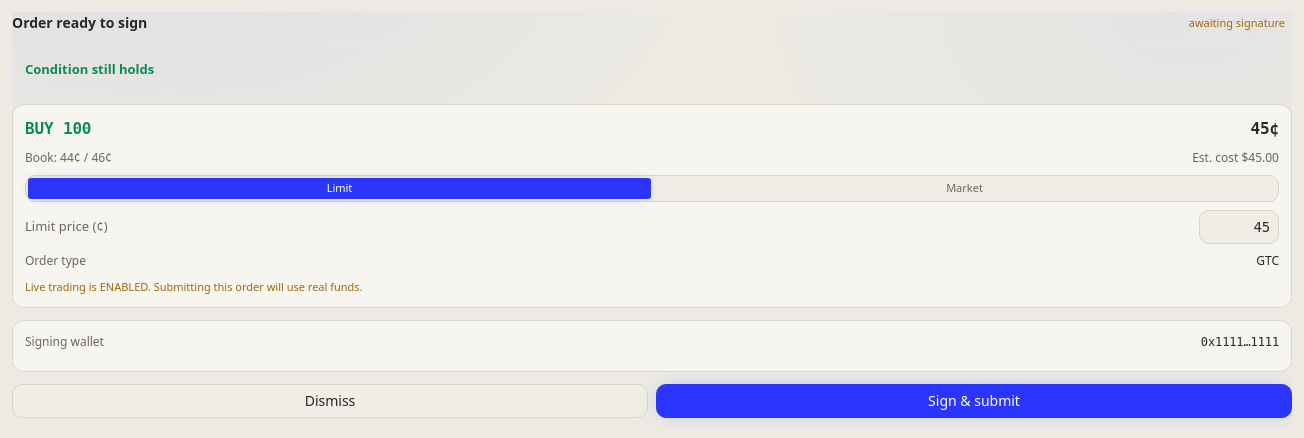
mobile sign page › market mode switches to FAK take-now copy
This screenshot has width=1304, height=438.
Click the button "Market". click: (964, 188)
box: [653, 178, 1276, 198]
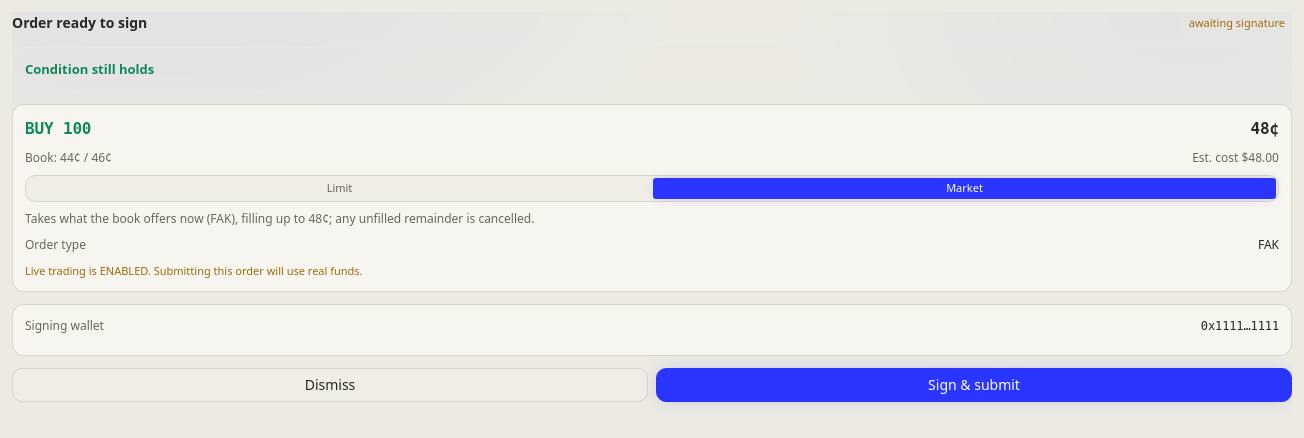
Result: the text "unfilled remainder is cancelled" is shown at [329, 210, 534, 226]
Result: the text "FAK" is shown at [1258, 236, 1279, 254]
